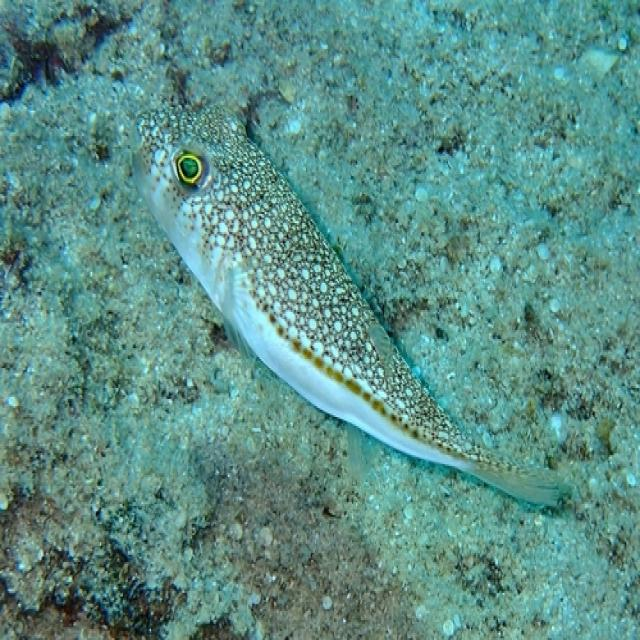Balik: (134, 107, 560, 505)
